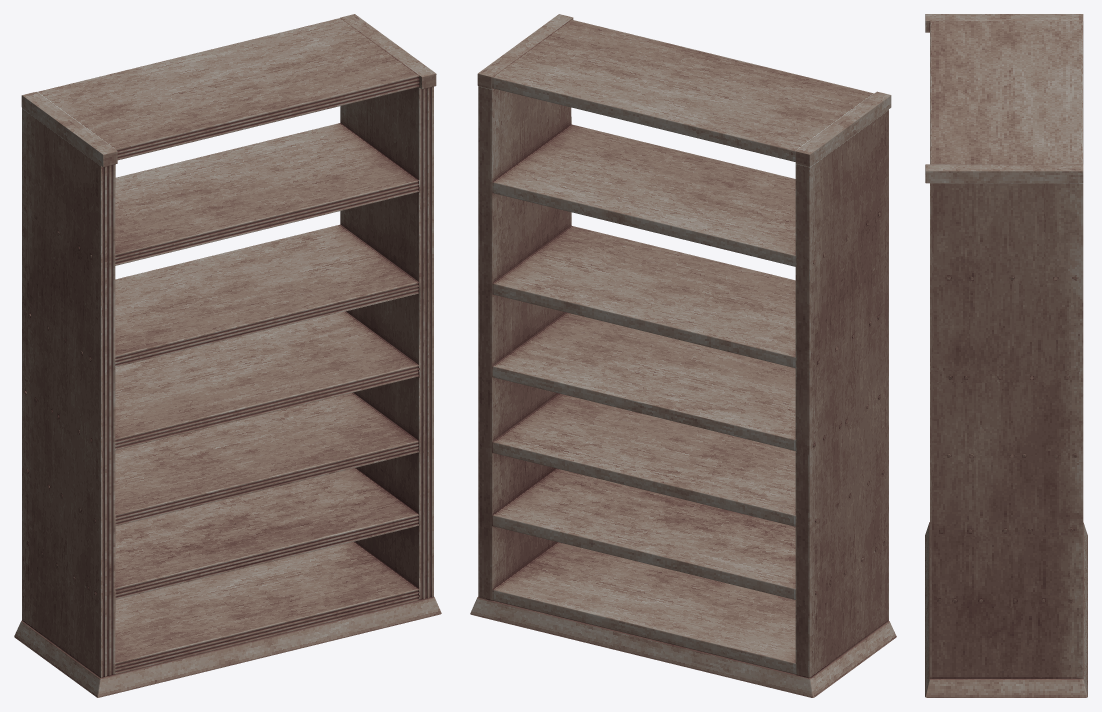
The model's file is wooden_bookshelf_worn.glb.
The picture shows the model from 3 angles, left to right: view 1: azimuth 30°, elevation 25°; view 2: azimuth 150°, elevation 25°; view 3: azimuth 270°, elevation 25°; orthographic projection. The views are drawn at different scales.
Visible parts, largest first — view 1: body; view 2: body; view 3: body.
Part boxes in pixels (bbox=[...]): body: bbox=[14, 14, 441, 697]; body: bbox=[470, 14, 896, 697]; body: bbox=[925, 14, 1087, 697].
Bounding box in the file's own units: 1.37 × 2.06 × 0.5816.
Materials: 1 (1 with a texture image).
